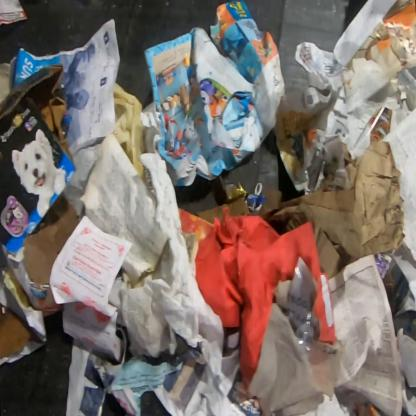cardboard: (0, 64, 77, 259), (196, 180, 284, 226), (0, 301, 33, 362)
soft_plastic: (283, 256, 321, 352)
